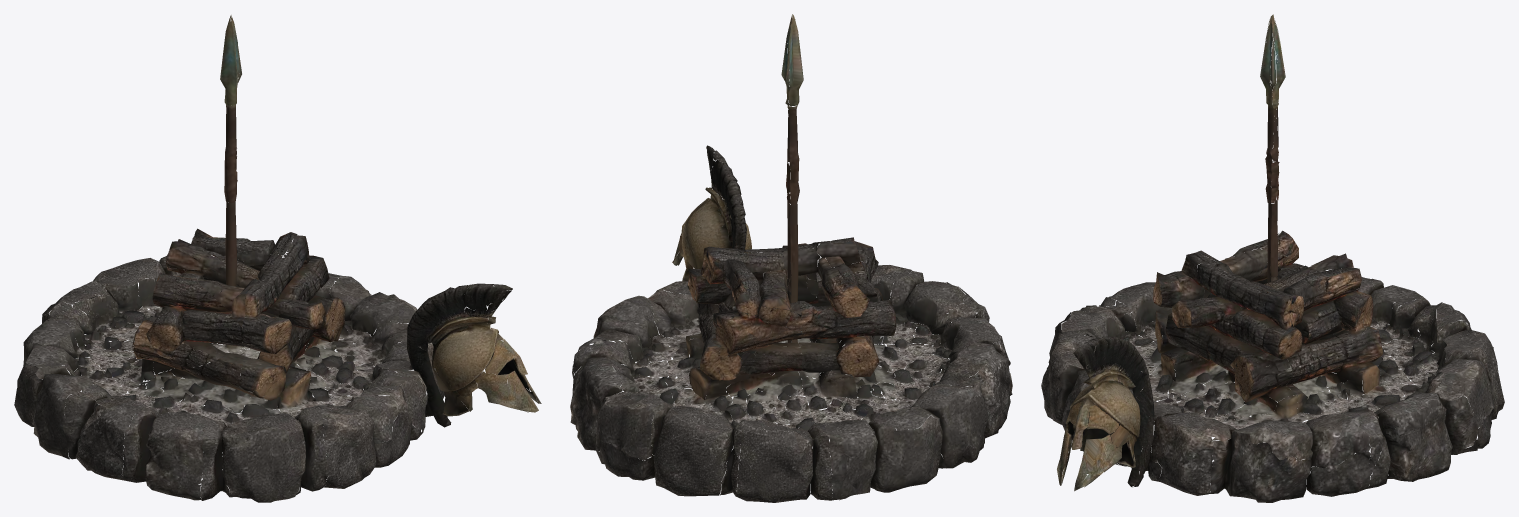
Rendered from bonfire.glb.
The picture shows the model from 3 angles, left to right: view 1: azimuth 30°, elevation 25°; view 2: azimuth 150°, elevation 25°; view 3: azimuth 270°, elevation 25°; orthographic projection.
Visible parts, largest first — view 1: bonfire; view 2: bonfire; view 3: bonfire.
Part boxes in pixels (x1,y1,x2,y2): bonfire: (14,15,541,502); bonfire: (570,14,1012,502); bonfire: (1041,14,1504,502).
Bounding box in the file's own units: 1.8 × 1.71 × 1.8.
1 material, 1 textured.
